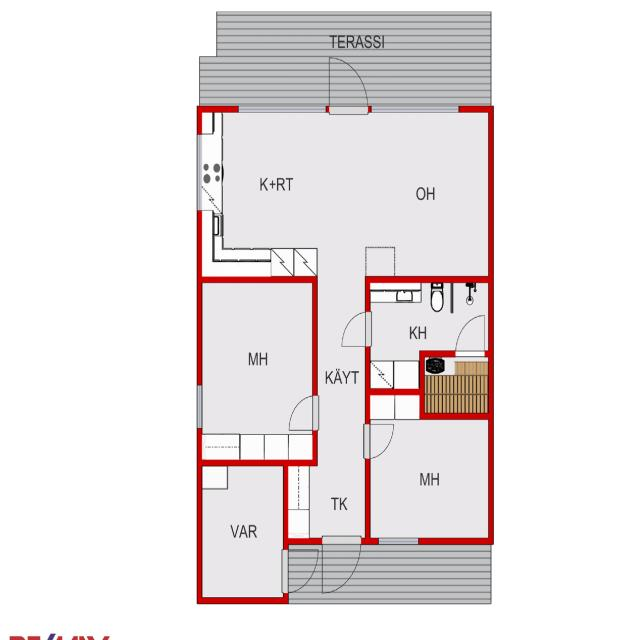door: (322, 538, 361, 597), (329, 54, 368, 112), (284, 550, 320, 593), (456, 312, 485, 357), (286, 396, 317, 430), (365, 424, 396, 458), (340, 312, 370, 346)
